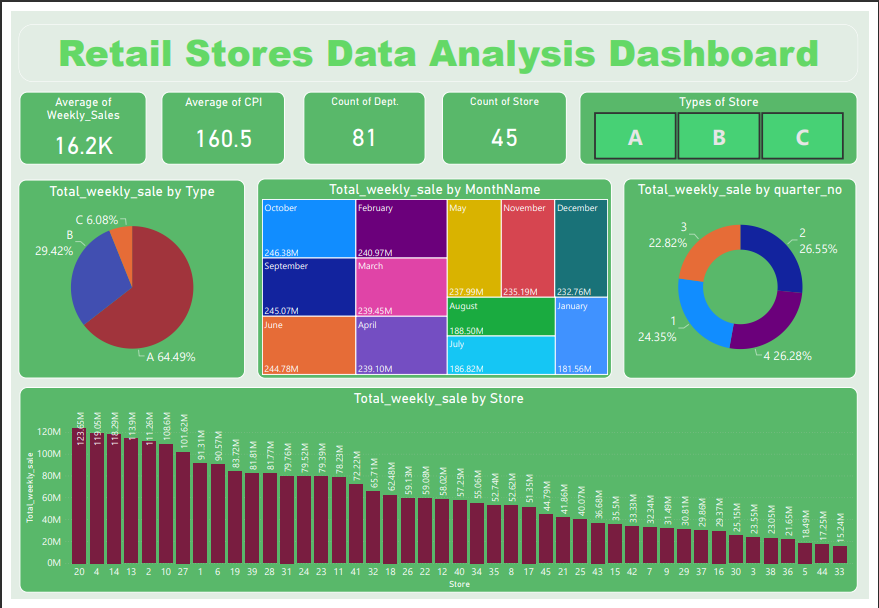

The page's visual inventory and layout, read from the dashboard file:
{"tool":"powerbi","page":{"name":"Page 1","canvas":[1900,1300],"ordinal":0},"visuals":[{"type":"clusteredColumnChart","fields":{"Category":["sales.Store"],"Y":["sales.Total_weekly_sale"]},"box":[18.2,832,1859,455],"z":0},{"type":"card","title":"Average of Weekly_Sales","fields":{"Values":["Avg(sales.Weekly_Sales)"]},"box":[18.2,178.7,280.8,161.2],"z":1000},{"type":"card","title":"Average of CPI","fields":{"Values":["Avg(Features.CPI)"]},"box":[332.8,178.7,273,161.2],"z":2000},{"type":"slicer","title":"Types of Store","fields":{"Values":["stores.Type"]},"box":[1261,178.7,616.2,161.2],"z":3000},{"type":"card","title":"Count of Dept.","fields":{"Values":["Count(sales.Dept)"]},"box":[647.4,178.7,270.4,161.2],"z":4000},{"type":"card","title":"Count of Store","fields":{"Values":["Count(sales.Store)"]},"box":[954.2,178.7,275.6,161.2],"z":5000},{"type":"pieChart","fields":{"Category":["stores.Type"],"Y":["sales.Total_weekly_sale"]},"box":[15.3,372.7,502.2,440.1],"z":6000},{"type":"treemap","fields":{"Values":["sales.Total_weekly_sale"],"Group":["Calendar.MonthName"]},"box":[544.5,370,785.7,442.8],"z":7000},{"type":"donutChart","fields":{"Category":["Calendar.quarter_no"],"Y":["sales.Total_weekly_sale"]},"box":[1357.2,370,515.7,442.8],"z":8000},{"type":"textbox","box":[18.2,28.6,1859,127.4],"z":9000},{"type":"shape","box":[15,27.5,1862.5,127.5],"z":10000}]}

Visuals, with their boxes in screenshot pixels (x1, y1, x2, y2), scaled from the page's 1900x1300 canvas onto the 879x608 screenshot:
clusteredColumnChart - sales.Store x sales.Total_weekly_sale: BBox(8, 389, 868, 602)
"Average of Weekly_Sales" card: BBox(8, 84, 138, 159)
"Average of CPI" card: BBox(154, 84, 280, 159)
"Types of Store" slicer: BBox(583, 84, 868, 159)
"Count of Dept." card: BBox(300, 84, 425, 159)
"Count of Store" card: BBox(441, 84, 569, 159)
pieChart - stores.Type x sales.Total_weekly_sale: BBox(7, 174, 239, 380)
treemap - sales.Total_weekly_sale x Calendar.MonthName: BBox(252, 173, 615, 380)
donutChart - Calendar.quarter_no x sales.Total_weekly_sale: BBox(628, 173, 866, 380)
textbox: BBox(8, 13, 868, 73)
shape: BBox(7, 13, 869, 72)
